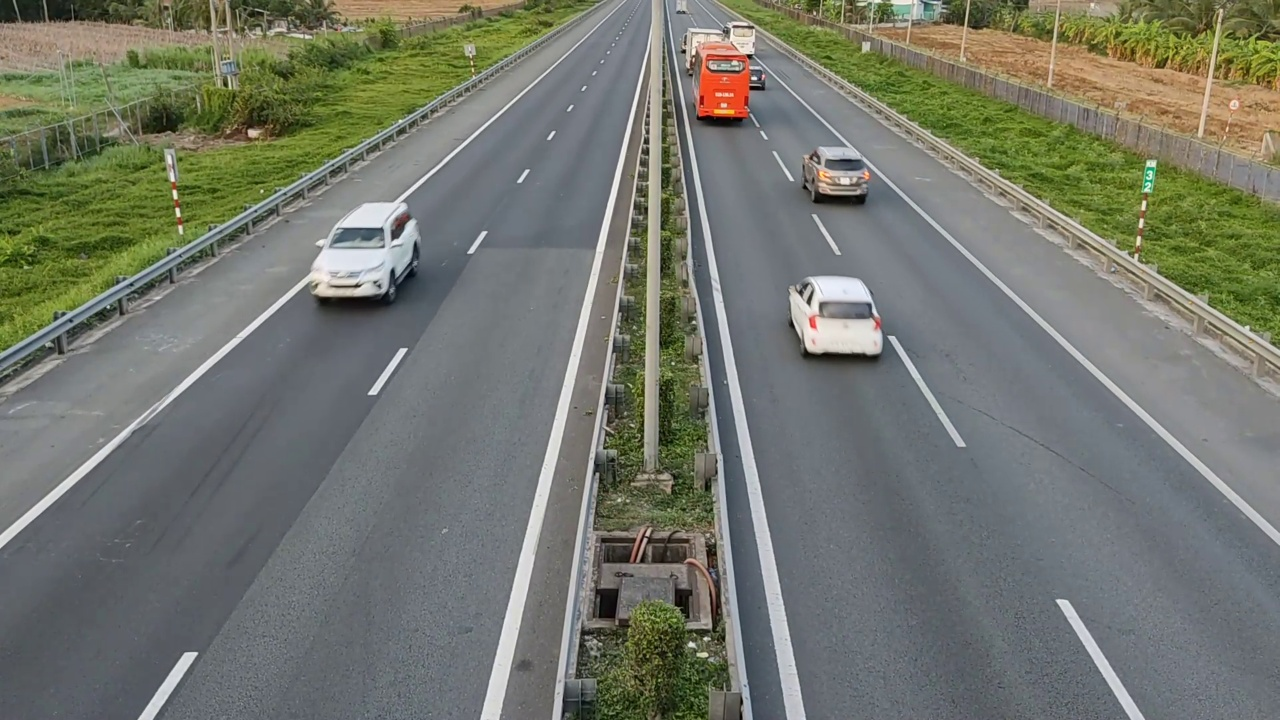car: (309, 200, 422, 304), (787, 275, 883, 359), (800, 144, 871, 204)
